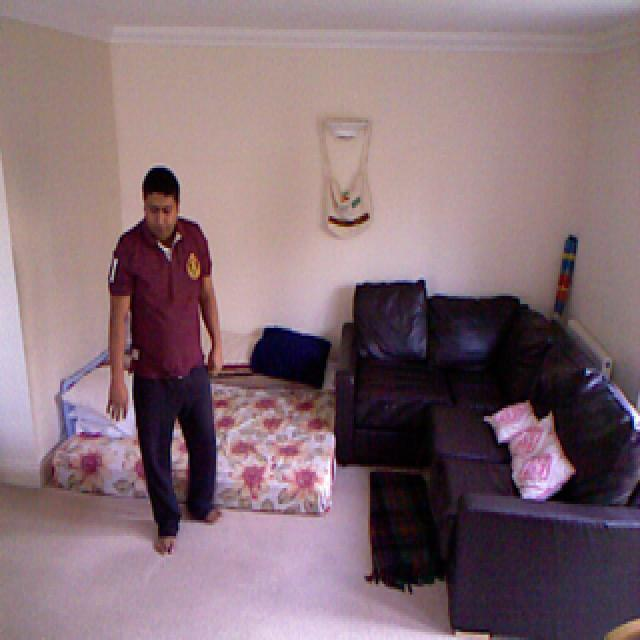NotFall: (89, 137, 252, 568)
